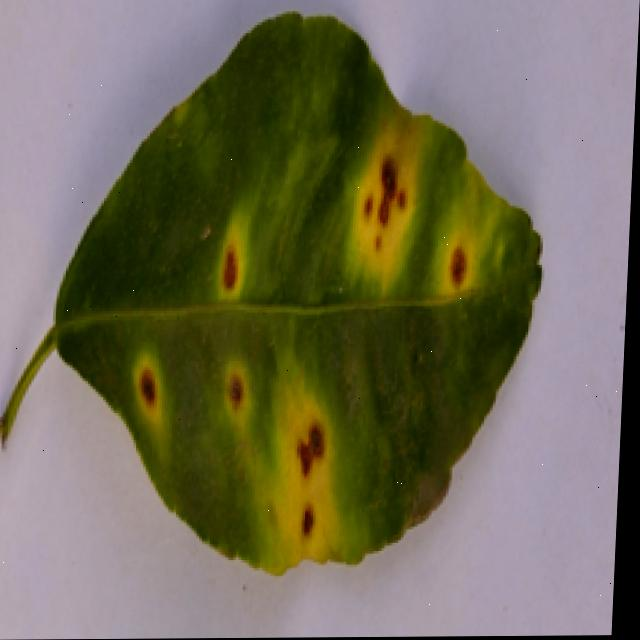canker: (2, 14, 538, 571), (298, 425, 321, 476), (378, 161, 395, 223), (141, 371, 157, 405), (454, 249, 464, 284), (231, 375, 241, 407), (224, 248, 232, 286), (305, 508, 313, 533)
